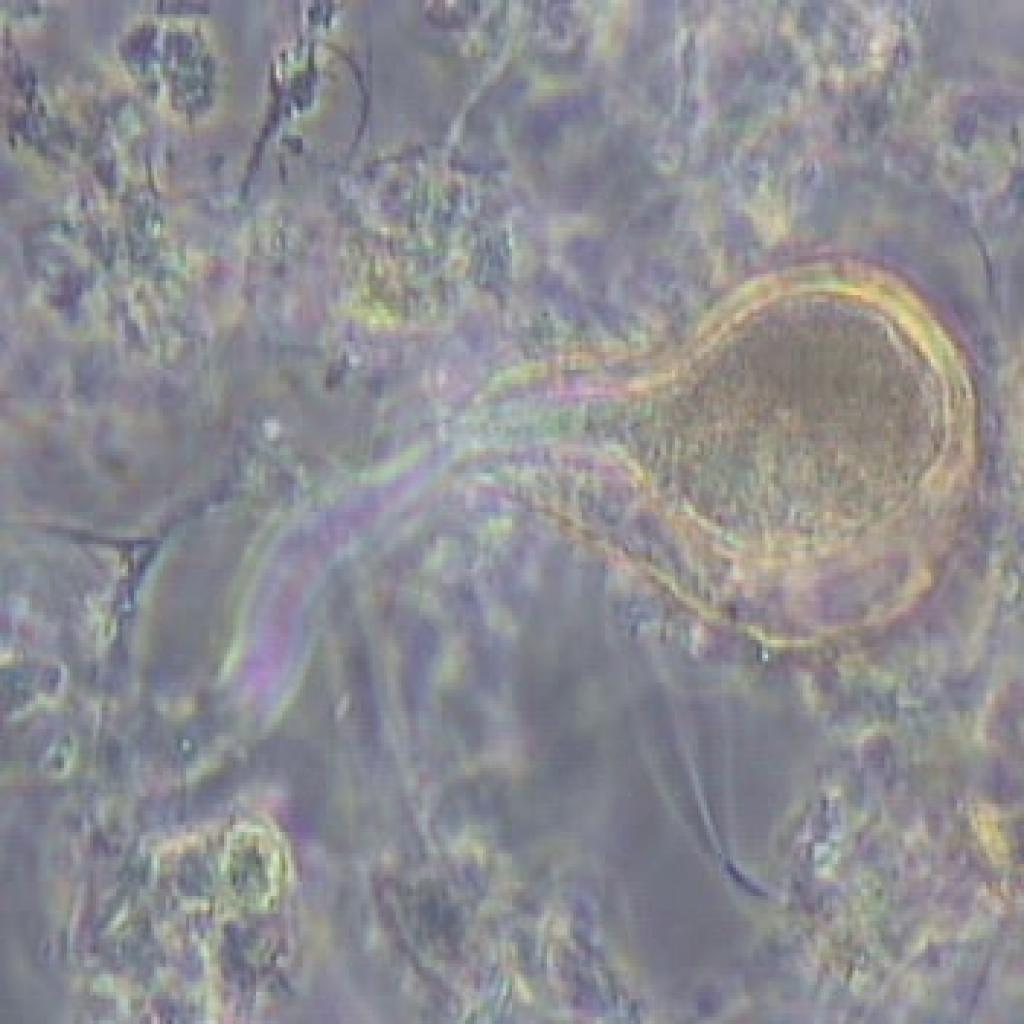Chaetopira: (521, 270, 980, 630)
